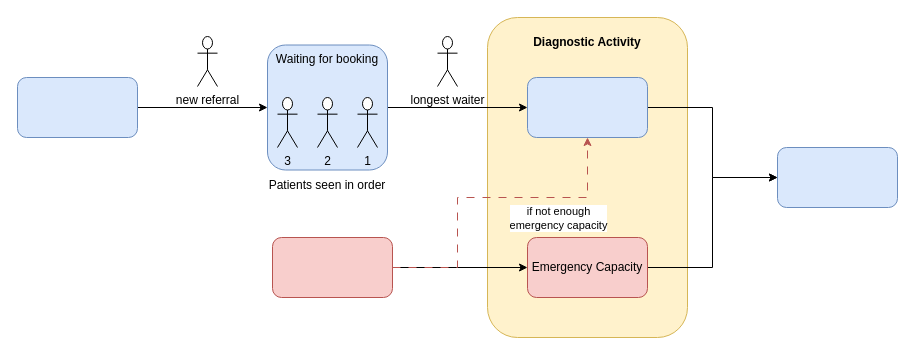
This 915x355 diagram has some shape labels left out. Each missing label, with the centre of its shape:
"Discharged from diagnostic waiting list" belongs at point (837, 177).
"Emergency Inpatient Referrals" belongs at point (332, 267).
"Routine planned capacity" belongs at point (587, 107).
"Routine Referrals" belongs at point (77, 107).
